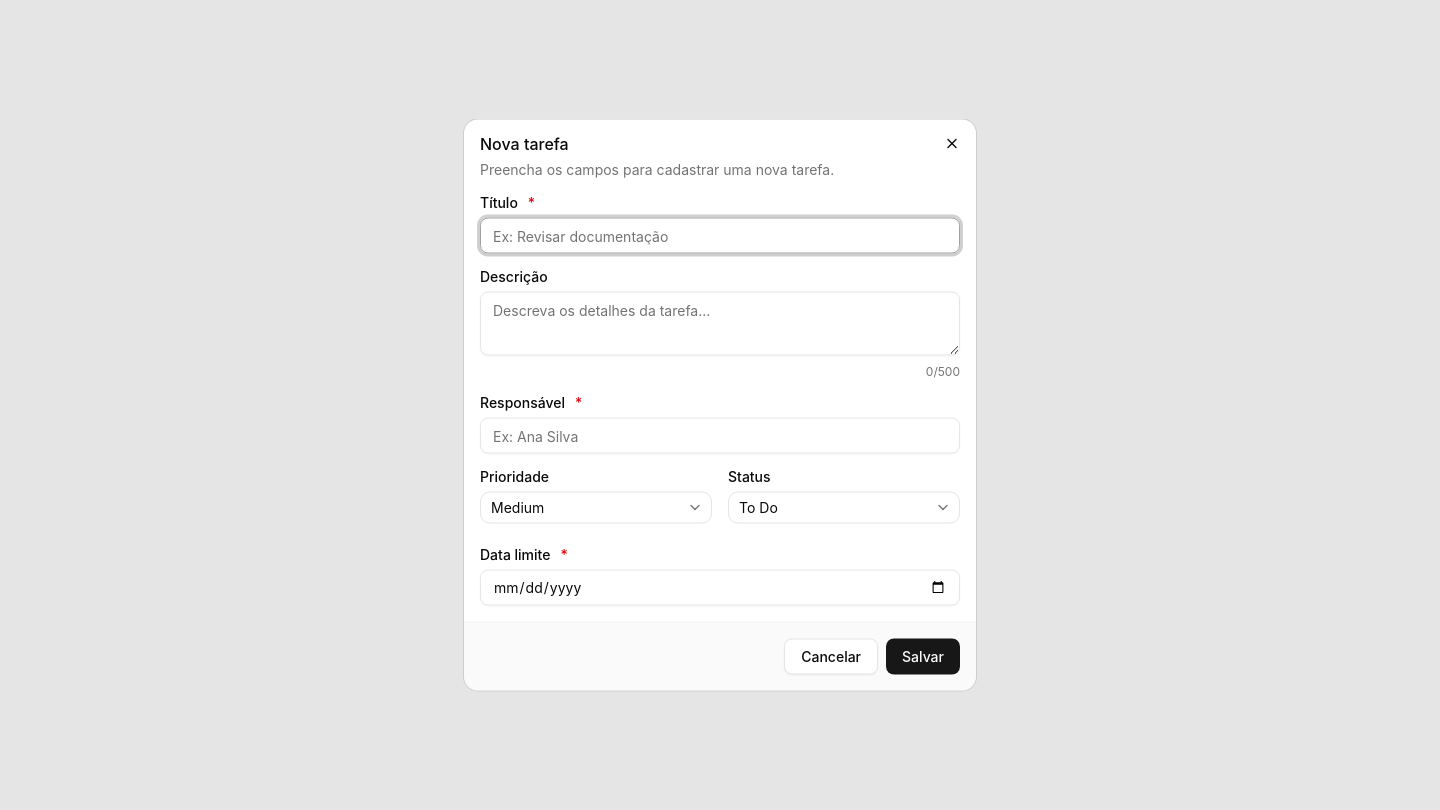
Test: TaskForm › exibe erro de título mínimo
In the field labelled "Título *": point(720, 236) [480,218,960,254], type "abc"
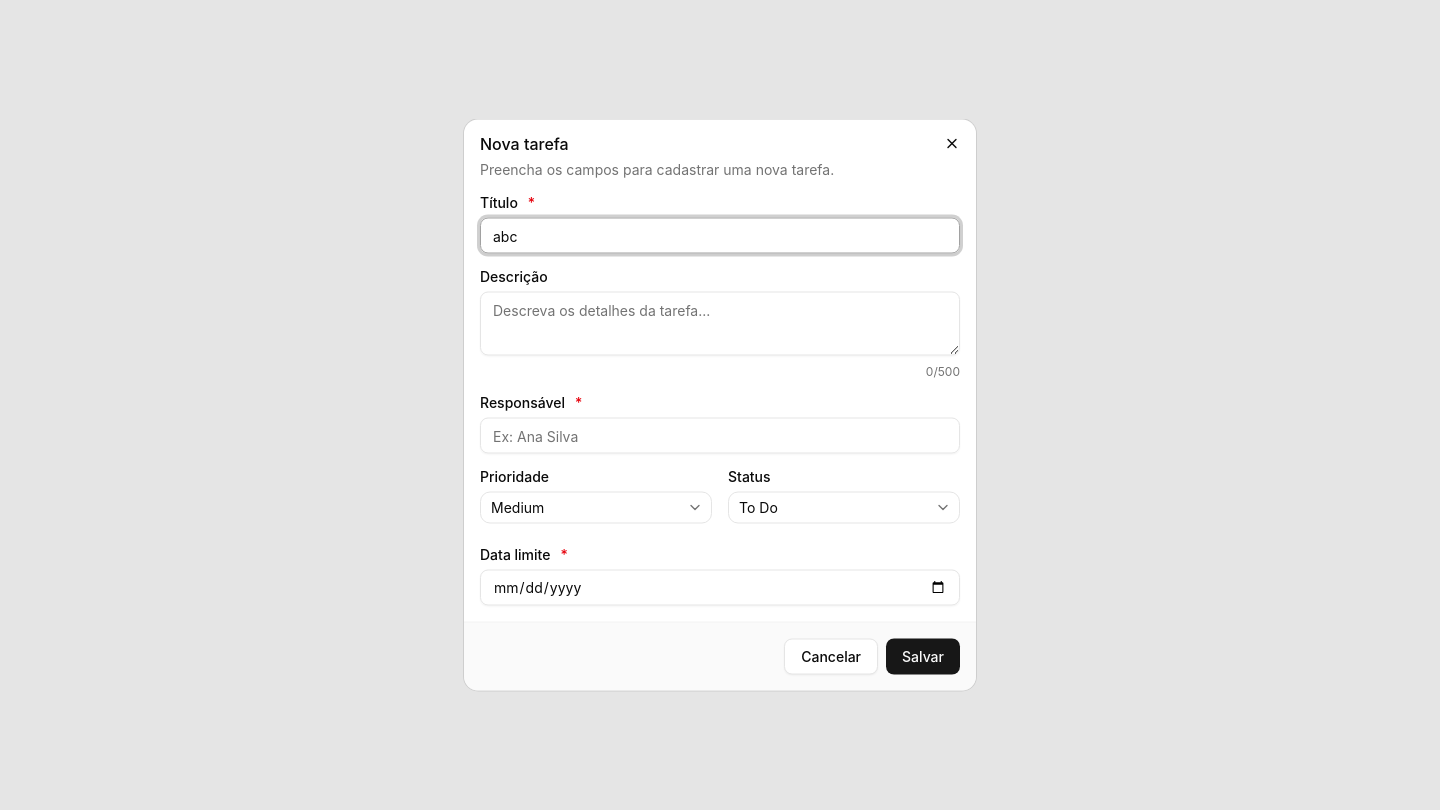
In the field labelled "Responsável *": point(720, 436) [480,418,960,454], type "Ana Silva"
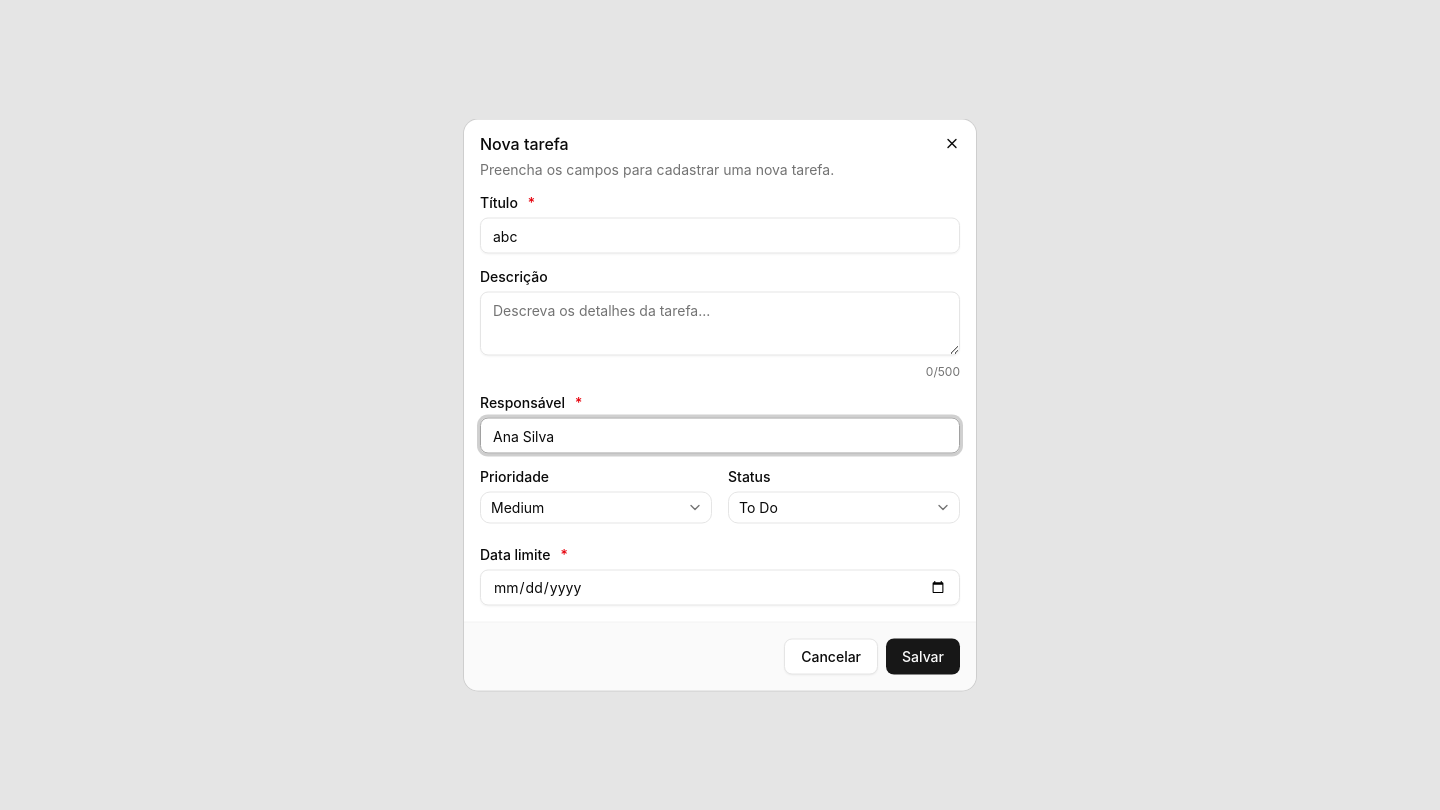
In the date field labelled "Data limite *": point(720, 588) [480,570,960,606], type "2026-12-31"
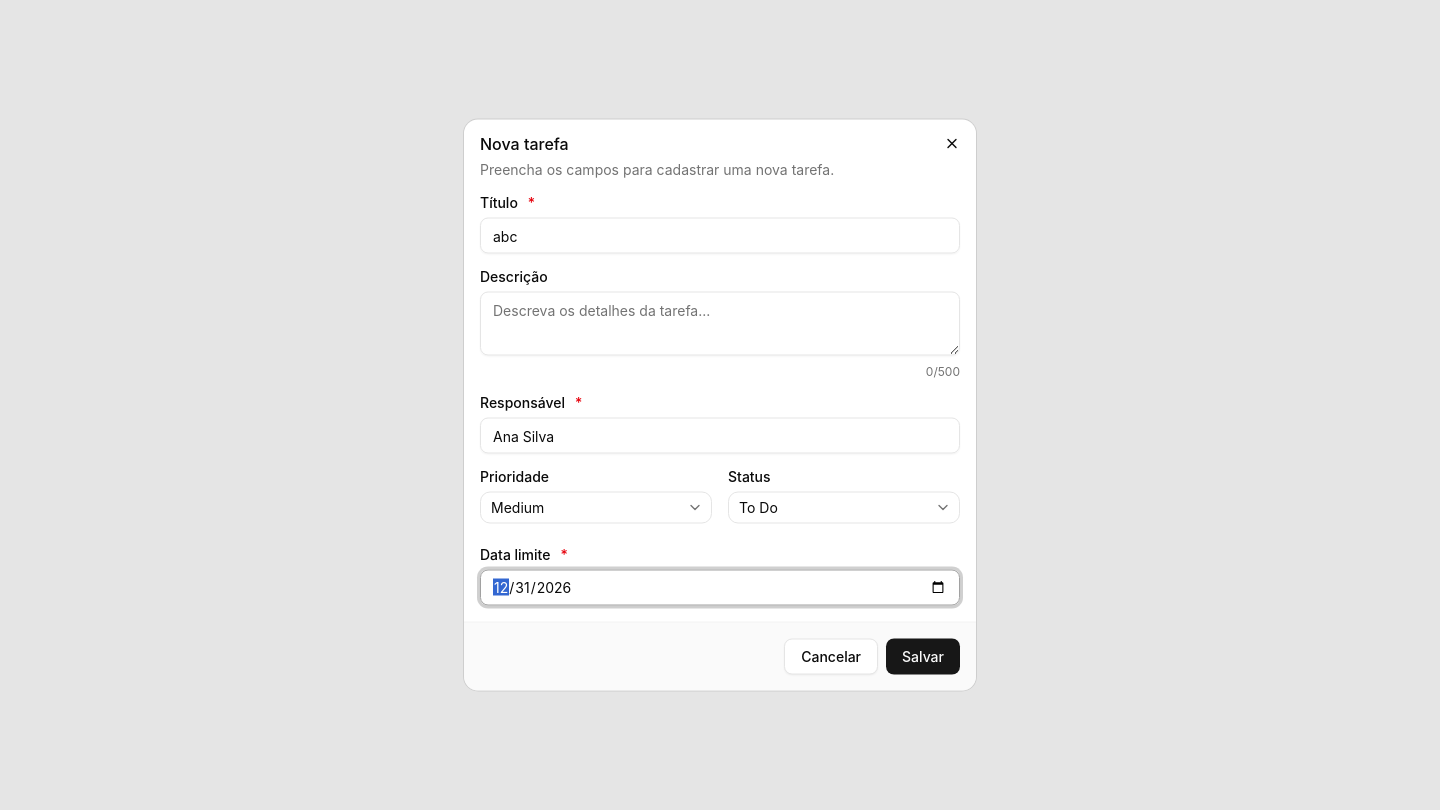
Click the button "Salvar": point(923, 656) [886,638,960,674]
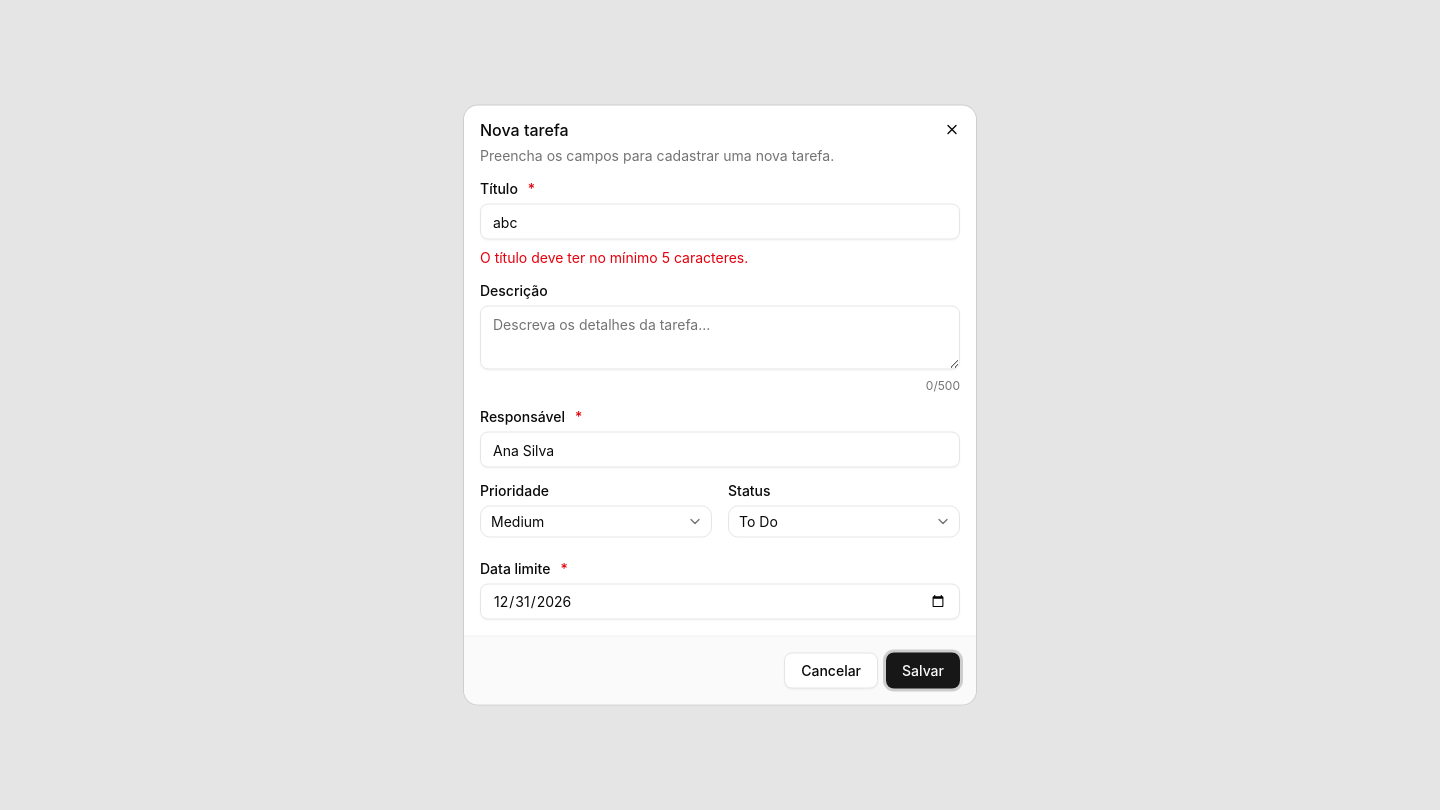
Check: the text "O título deve ter no mínimo 5 caracteres." is shown, box [480,248,748,266]
